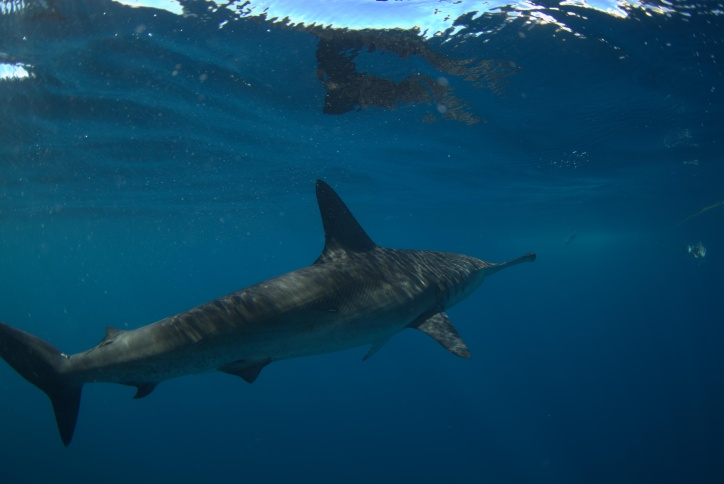Hammer: (1, 165, 593, 470)
